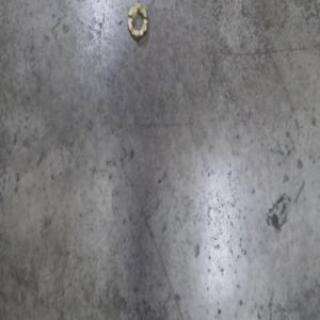Nuttrack_idkeyframe: (126, 1, 148, 42)
